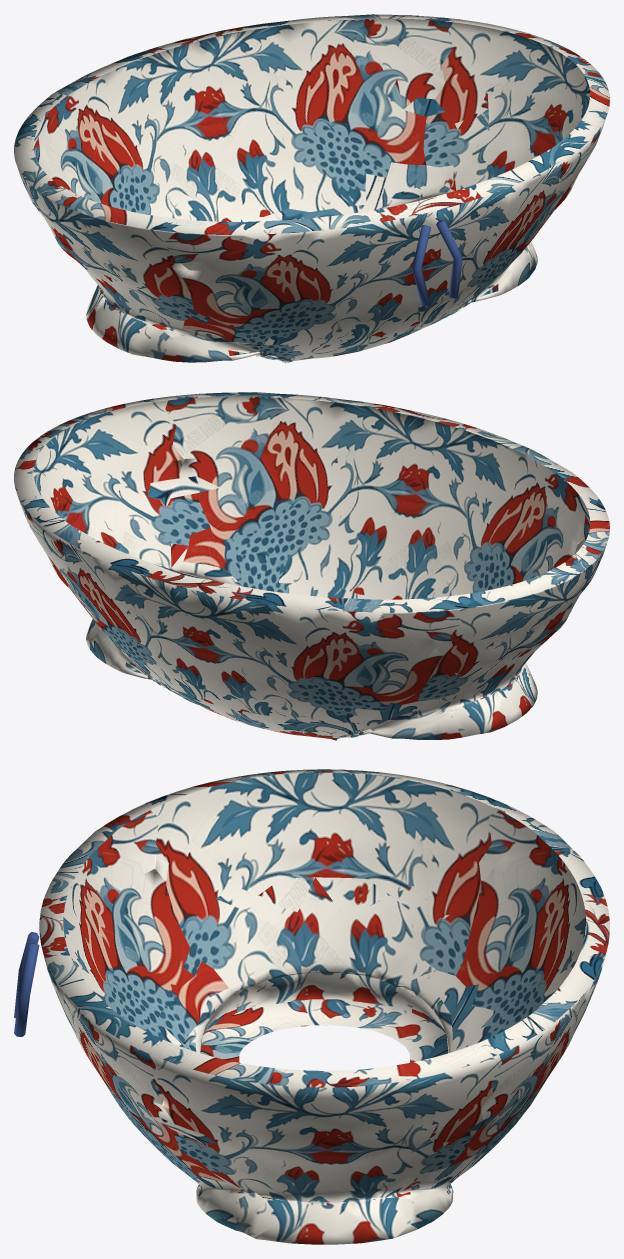
File: trunks3.fbx
3 renders of one model, top to bottom at view 1: azimuth 30°, elevation 25°; view 2: azimuth 150°, elevation 25°; view 3: azimuth 270°, elevation 25°, orthographic. The views are drawn at different scales.
Parts seen in each view (by area): view 1: trunks3; view 2: trunks3; view 3: trunks3.
Boxes of the visible parts, box(x1,y1,x2,y2) form: trunks3: box(14, 14, 609, 363); trunks3: box(14, 392, 609, 740); trunks3: box(14, 769, 609, 1244).
Bounding box in the file's own units: 0.7932 × 0.2807 × 0.6278.
Materials: 2 (1 with a texture image).
